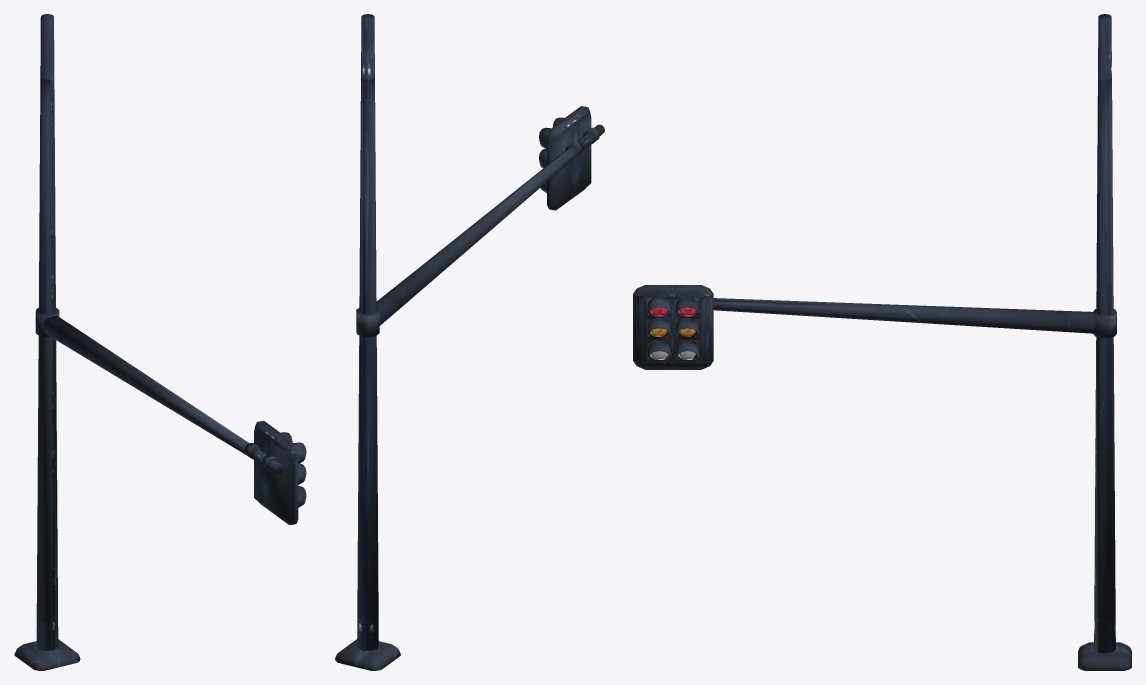
The model's file is TrafficLight3_1.fbx.
3 views of the same model, side by side, from view 1: azimuth 30°, elevation 25°; view 2: azimuth 150°, elevation 25°; view 3: azimuth 270°, elevation 25° (orthographic).
Parts seen in each view (by area): view 1: Post0, beam0, frameDbl0, base0, cpls0, hoods0; view 2: Post0, beam0, frameDbl0, base0, cpls0, hoods0; view 3: Post0, beam0, frameDbl0, hoods0, base0.
Boxes of the visible parts, <box> form: Post0: <box>36,14,58,650</box>; beam0: <box>43,315,284,474</box>; frameDbl0: <box>254,421,298,525</box>; base0: <box>14,639,80,670</box>; cpls0: <box>35,308,278,470</box>; hoods0: <box>281,432,306,507</box>; Post0: <box>357,14,378,650</box>; beam0: <box>376,124,604,325</box>; frameDbl0: <box>547,106,591,210</box>; base0: <box>335,639,400,670</box>; cpls0: <box>356,127,599,337</box>; hoods0: <box>538,117,564,192</box>; Post0: <box>1094,14,1115,653</box>; beam0: <box>713,298,1095,333</box>; frameDbl0: <box>633,285,713,369</box>; hoods0: <box>647,296,699,360</box>; base0: <box>1078,642,1131,670</box>.
Bounding box in the file's own units: 0.9938 × 10.65 × 7.49.
